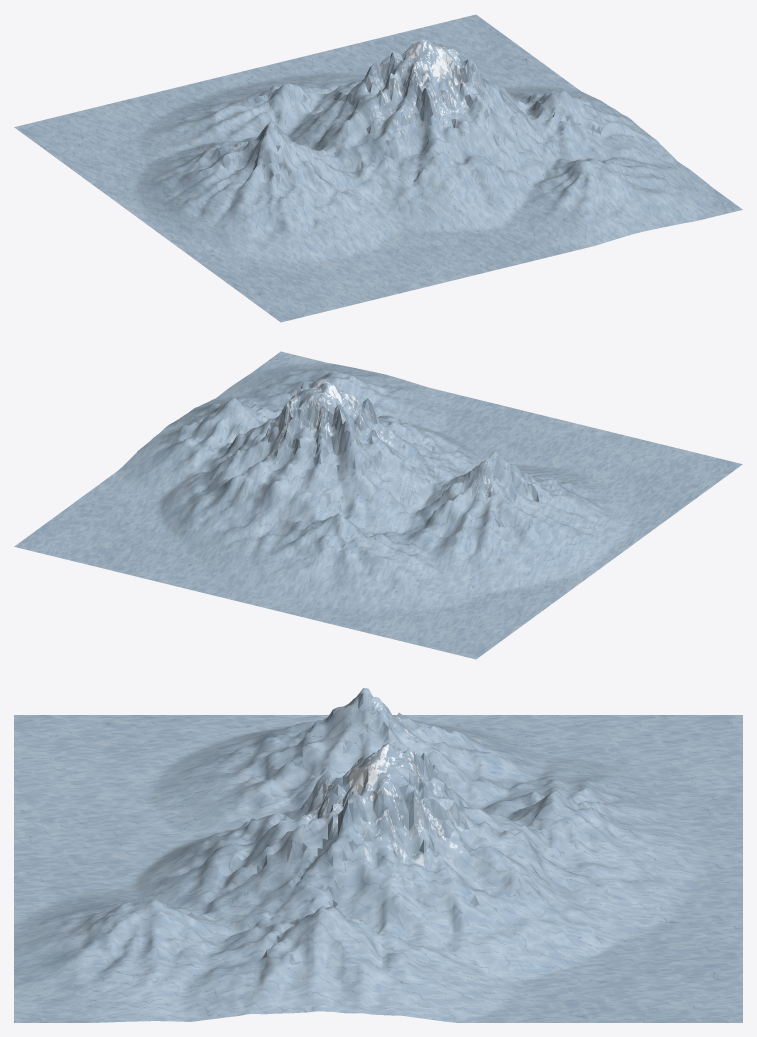
Rendered from cpolar-mountain-mobile.glb.
3 renders of one model, top to bottom at view 1: azimuth 30°, elevation 25°; view 2: azimuth 150°, elevation 25°; view 3: azimuth 270°, elevation 25°, orthographic. The views are drawn at different scales.
Visible parts, largest first — view 1: CPolar_Mountain_Mobile; view 2: CPolar_Mountain_Mobile; view 3: CPolar_Mountain_Mobile.
Boxes of the visible parts, box(x1,y1,x2,y2) form: CPolar_Mountain_Mobile: box(14, 14, 742, 322); CPolar_Mountain_Mobile: box(14, 351, 742, 659); CPolar_Mountain_Mobile: box(14, 688, 742, 1022).
Size of the model in its own units: 27.5 by 6.5 by 27.5.
Materials: 1 (1 with a texture image).
